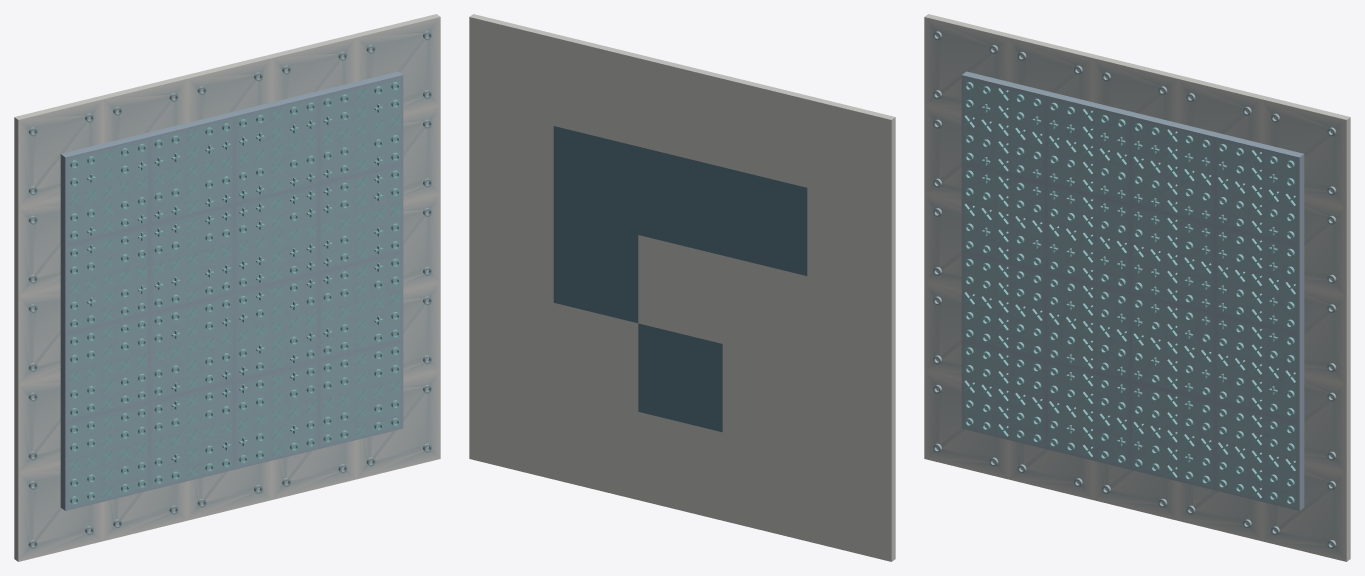
The model's file is glider-assembled.glb.
The picture shows the model from 3 angles, left to right: view 1: azimuth 30°, elevation 25°; view 2: azimuth 150°, elevation 25°; view 3: azimuth 330°, elevation 25°; orthographic projection.
Visible parts, largest first — view 1: blue-3-0, blue-1-0, blue-2-0, blue-0-0, blue-3-1, blue-3-2, blue-3-3, blue-2-2, blue-2-3, blue-0-1, blue-0-3, blue-1-2 (+20 smaller); view 2: life-4-0, life-4-1, life-4-3, life-1-0, life-2-0, life-3-0, life-0-0, life-4-2, life-4-4, life-0-1, life-2-3, life-1-3 (+13 smaller); view 3: blue-3-3, blue-1-3, blue-2-3, blue-0-3, blue-3-0, blue-3-1, blue-3-2, blue-2-0, blue-2-1, blue-0-0, blue-0-2, blue-1-0 (+20 smaller).
Boxes of the visible parts, left/top/right/bottom form: blue-3-0: left=60, top=133, right=149, bottom=245; blue-1-0: left=60, top=313, right=149, bottom=422; blue-2-0: left=60, top=225, right=149, bottom=334; blue-0-0: left=60, top=402, right=149, bottom=510; blue-3-1: left=145, top=112, right=234, bottom=224; blue-3-2: left=230, top=92, right=318, bottom=204; blue-3-3: left=314, top=71, right=403, bottom=183; blue-2-2: left=234, top=184, right=318, bottom=292; blue-2-3: left=319, top=163, right=403, bottom=272; blue-0-1: left=150, top=381, right=234, bottom=490; blue-0-3: left=319, top=340, right=403, bottom=448; blue-1-2: left=234, top=272, right=318, bottom=381; life-4-0: left=807, top=96, right=895, bottom=208; life-4-1: left=722, top=76, right=810, bottom=187; life-4-3: left=553, top=34, right=641, bottom=146; life-1-0: left=807, top=364, right=895, bottom=473; life-2-0: left=807, top=276, right=895, bottom=384; life-3-0: left=807, top=188, right=895, bottom=296; life-0-0: left=807, top=453, right=895, bottom=561; life-4-2: left=638, top=55, right=726, bottom=166; life-4-4: left=469, top=14, right=557, bottom=125; life-0-1: left=722, top=432, right=807, bottom=541; life-2-3: left=553, top=214, right=638, bottom=323; life-1-3: left=553, top=303, right=638, bottom=411; blue-3-3: left=1215, top=133, right=1304, bottom=245; blue-1-3: left=1215, top=313, right=1304, bottom=422; blue-2-3: left=1215, top=225, right=1304, bottom=334; blue-0-3: left=1215, top=402, right=1304, bottom=510; blue-3-0: left=961, top=71, right=1050, bottom=183; blue-3-1: left=1046, top=92, right=1134, bottom=204; blue-3-2: left=1130, top=112, right=1219, bottom=224; blue-2-0: left=961, top=163, right=1045, bottom=272; blue-2-1: left=1046, top=184, right=1130, bottom=292; blue-0-0: left=961, top=340, right=1045, bottom=448; blue-0-2: left=1130, top=381, right=1214, bottom=490; blue-1-0: left=961, top=252, right=1045, bottom=360.
Bounding box in the file's own units: 300 × 300 × 13.
